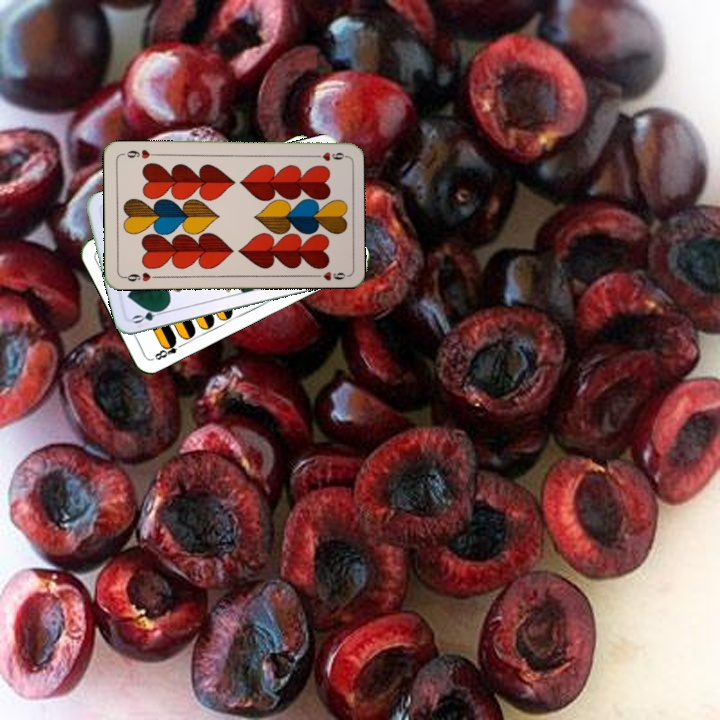E8: (151, 336, 186, 363)
GO: (128, 304, 169, 326)
H9: (119, 268, 160, 284), (307, 148, 347, 162)
